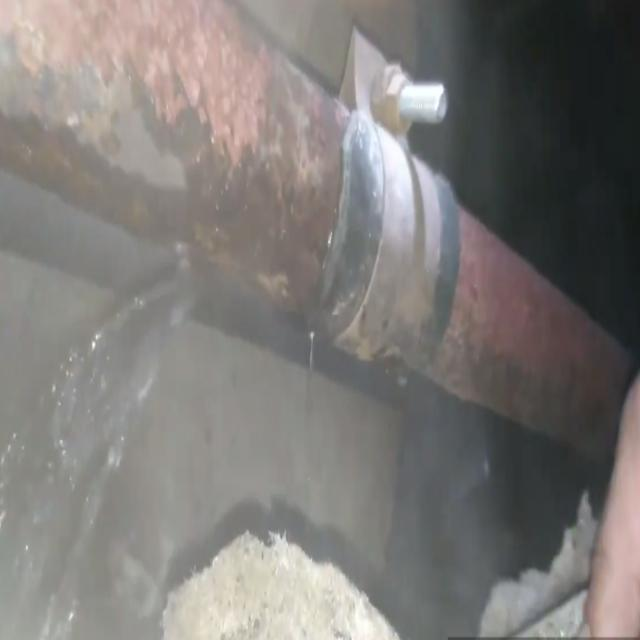leak: (0, 281, 186, 636)
